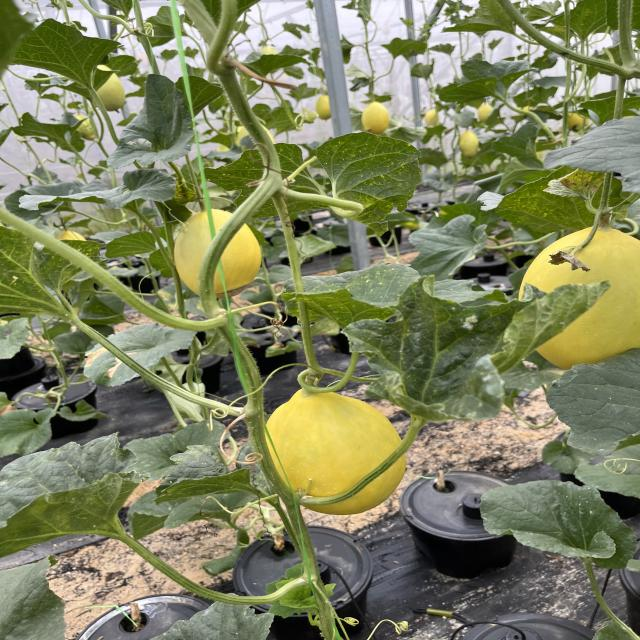CMV: (152, 439, 262, 508)
alternaria leaf blight: (548, 165, 613, 198)
downy mildew: (208, 133, 430, 230), (0, 434, 149, 555), (282, 262, 464, 329), (0, 226, 106, 326), (494, 192, 577, 229)
healthy: (478, 480, 636, 564), (101, 71, 204, 172), (544, 347, 640, 454), (0, 20, 129, 91)
powdery mildew: (152, 599, 285, 640)
